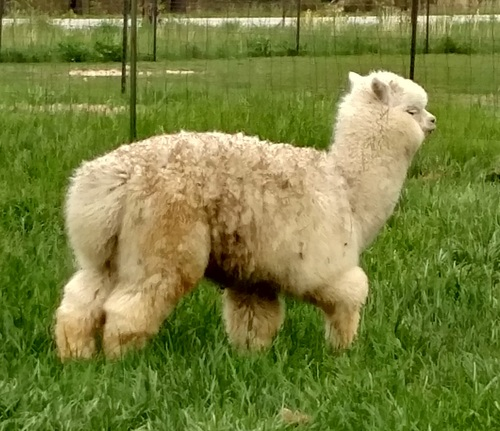alpaca: (56, 68, 437, 360)
